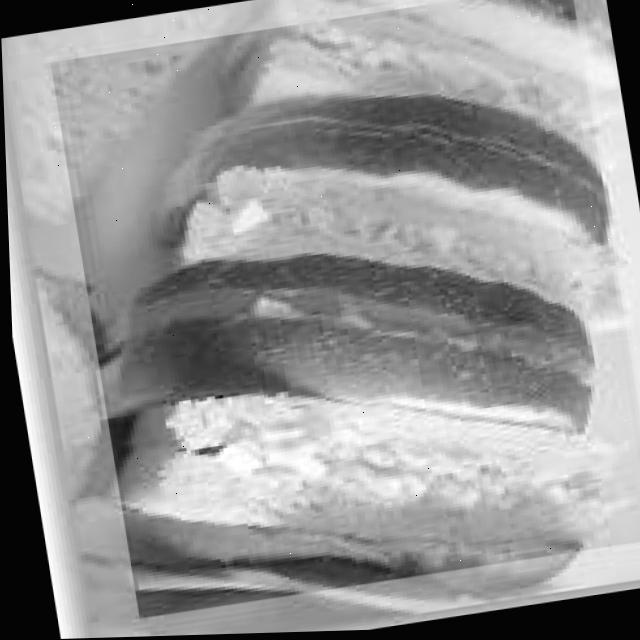三明治: (64, 0, 640, 605)
